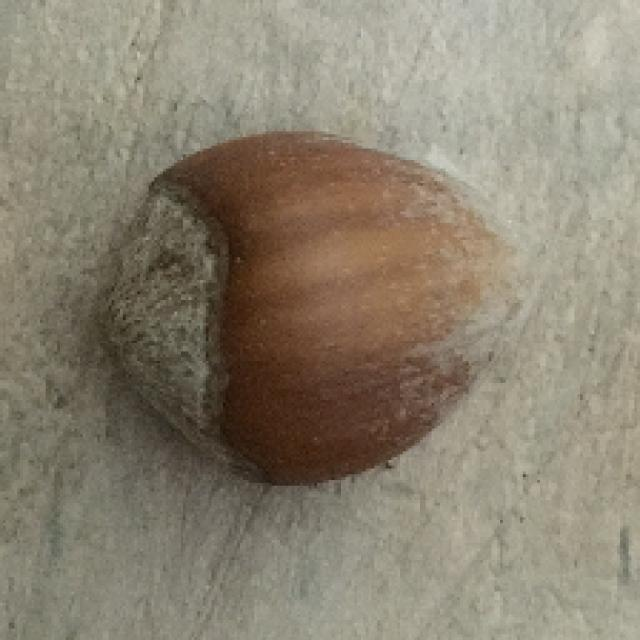qualityHazelnut: (101, 130, 535, 494)
